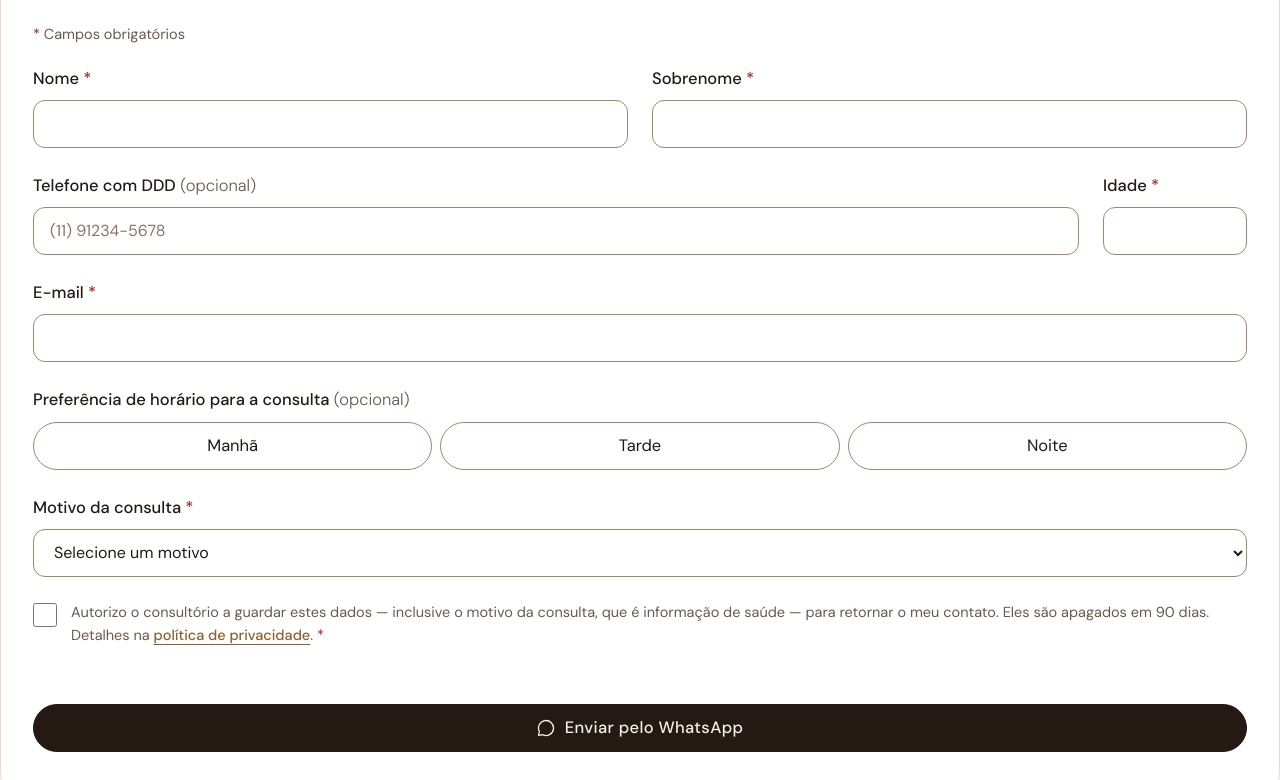
<FormularioContato> › enviar vazio mostra os obrigatórios (e o consentimento), foca o nome e não envia nada
(page scrolled)
Click the button "Enviar pelo WhatsApp" at (640, 728), box [33,704,1247,752]
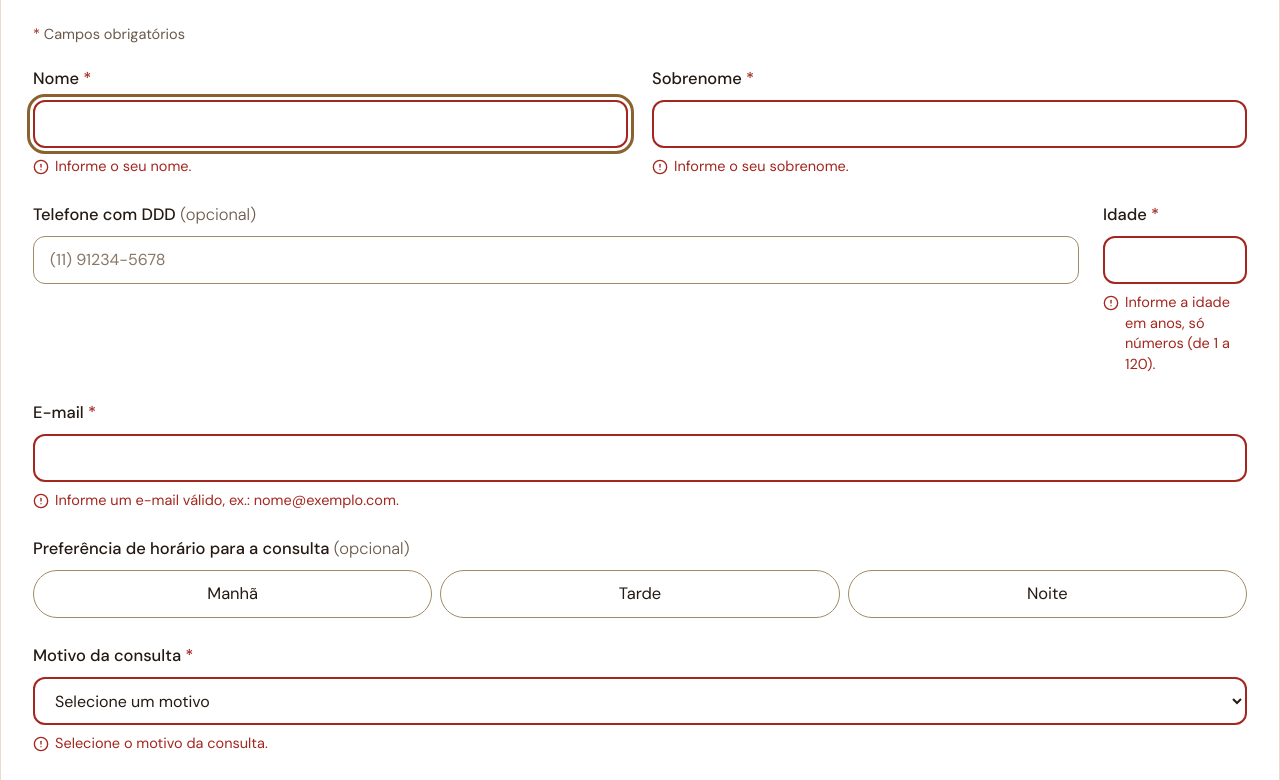
Now the text "Informe o seu nome." is shown, box [55,156,191,177]
Now the text "Informe o seu sobrenome." is shown, box [674,156,849,177]
Now the text "Informe um e-mail válido, ex.: nome@exemplo.com." is shown, box [55,490,399,511]
